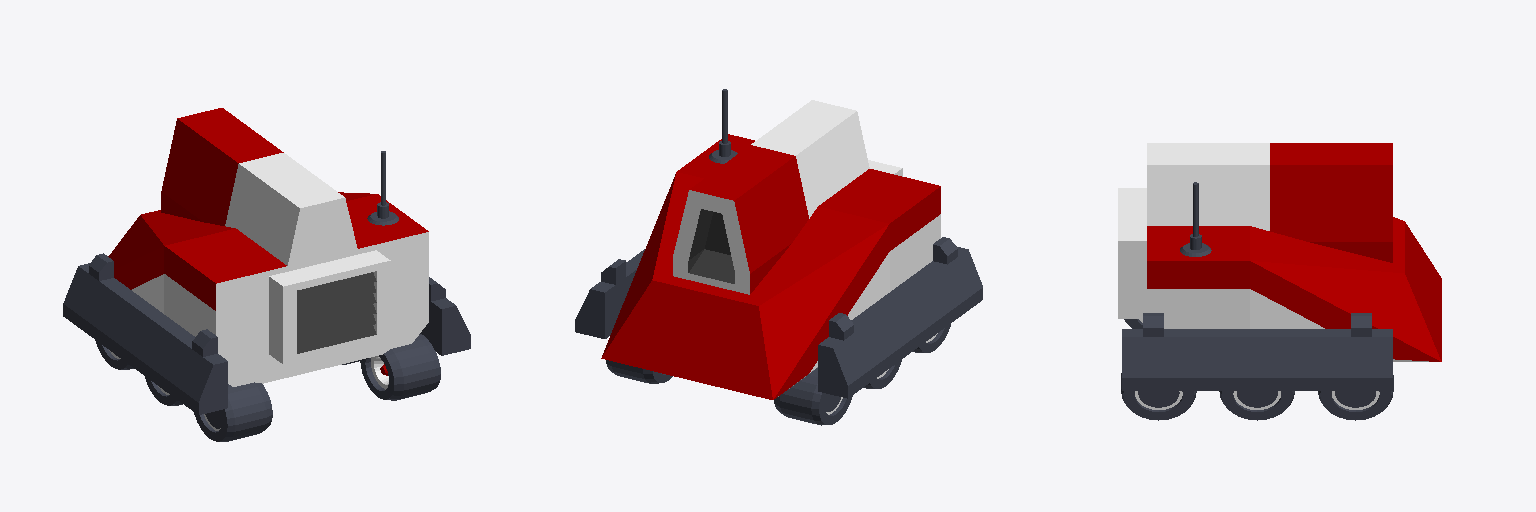
The model's file is enemyRangedLineUnit.obj.
The picture shows the model from 3 angles: view 1: azimuth 30°, elevation 25°; view 2: azimuth 150°, elevation 25°; view 3: azimuth 270°, elevation 25°; orthographic projection.
Size of the model in its own units: 1.28 by 1.02 by 1.32.